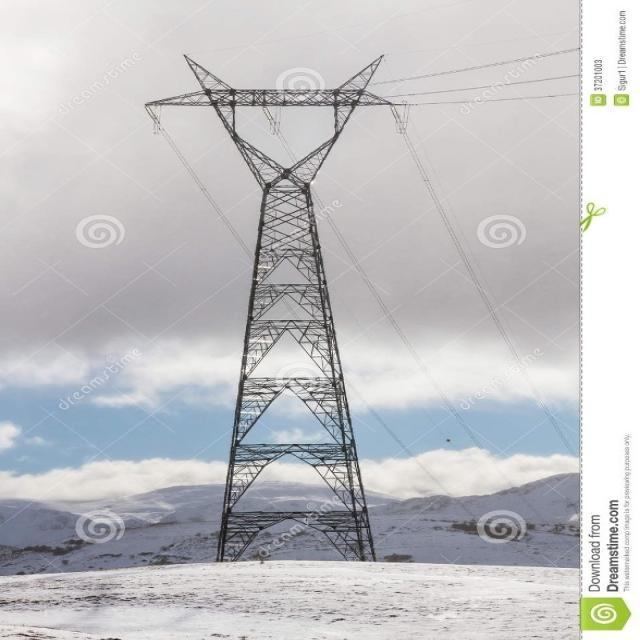non-critical vegetation: (122, 48, 439, 553)
